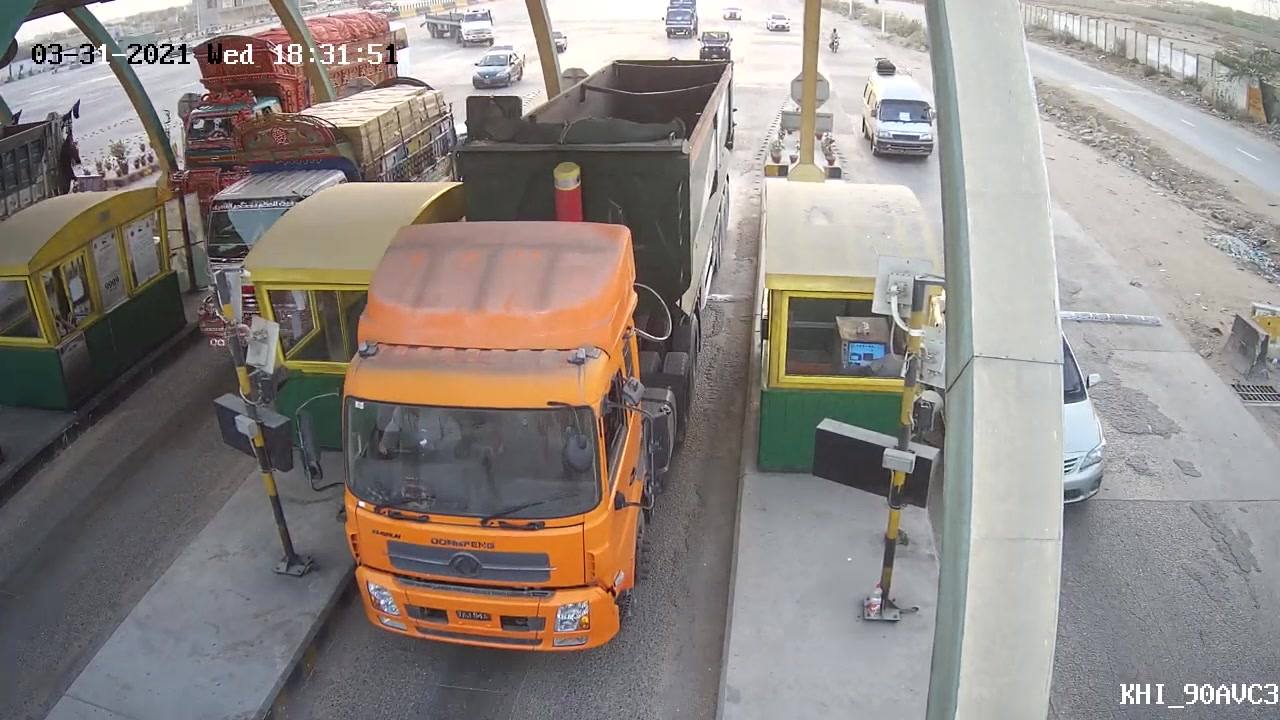F5: (332, 55, 737, 655)
